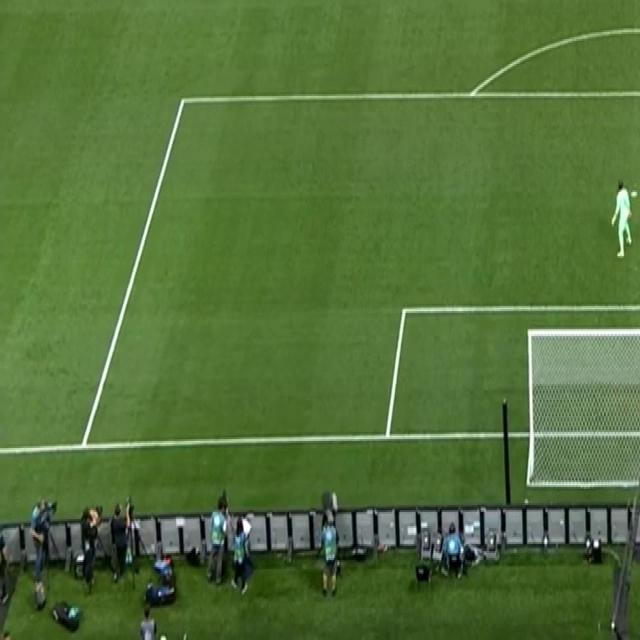player-white: (611, 183, 635, 263)
